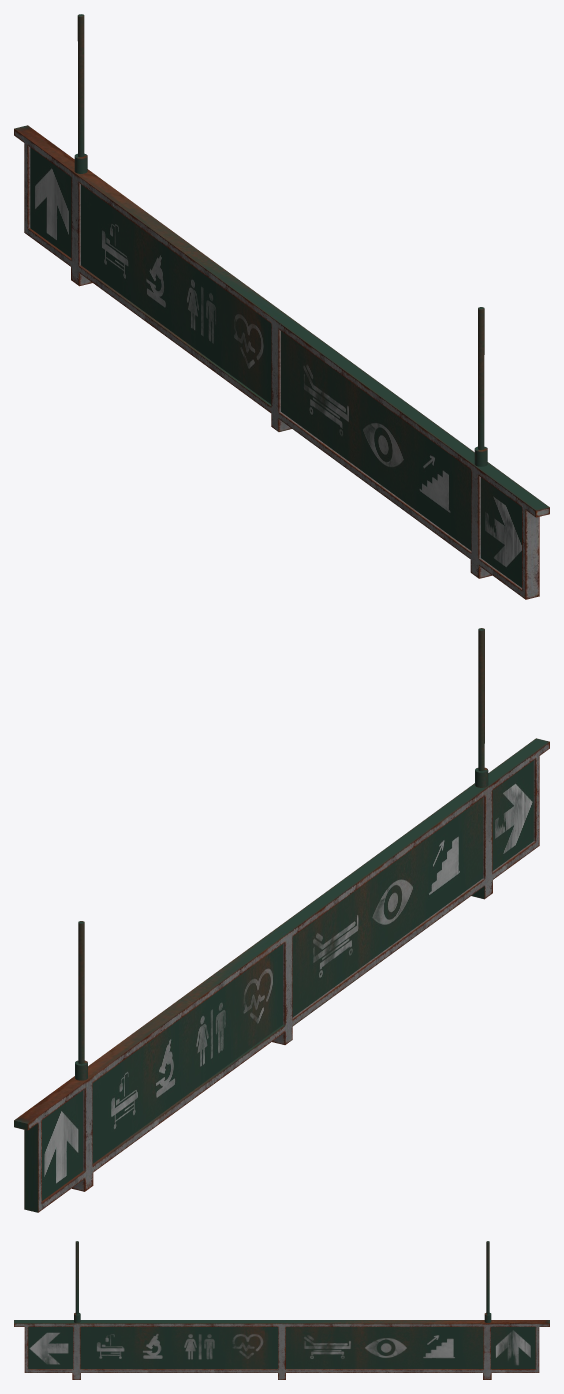
Rendered from lost_and_found_sign.gltf.
3 views of the same model, one above another, from view 1: azimuth 30°, elevation 25°; view 2: azimuth 150°, elevation 25°; view 3: azimuth 270°, elevation 25° (orthographic). The views are drawn at different scales.
Visible parts, largest first — view 1: SM_signage, SM_signage_wire.004, SM_signage_wire; view 2: SM_signage, SM_signage_wire, SM_signage_wire.004; view 3: SM_signage, SM_signage_wire.004, SM_signage_wire.
Part boxes in pixels (box(x1,y1,x2,y2)): SM_signage: box(14, 125, 549, 599); SM_signage_wire.004: box(74, 14, 87, 173); SM_signage_wire: box(474, 307, 487, 466); SM_signage: box(14, 738, 549, 1212); SM_signage_wire: box(475, 628, 488, 787); SM_signage_wire.004: box(75, 921, 87, 1080); SM_signage: box(14, 1320, 549, 1379); SM_signage_wire.004: box(484, 1241, 491, 1322); SM_signage_wire: box(74, 1241, 80, 1322).
Size of the model in its own units: 6.53 by 119 by 425.
Materials: 1 (1 with a texture image).
